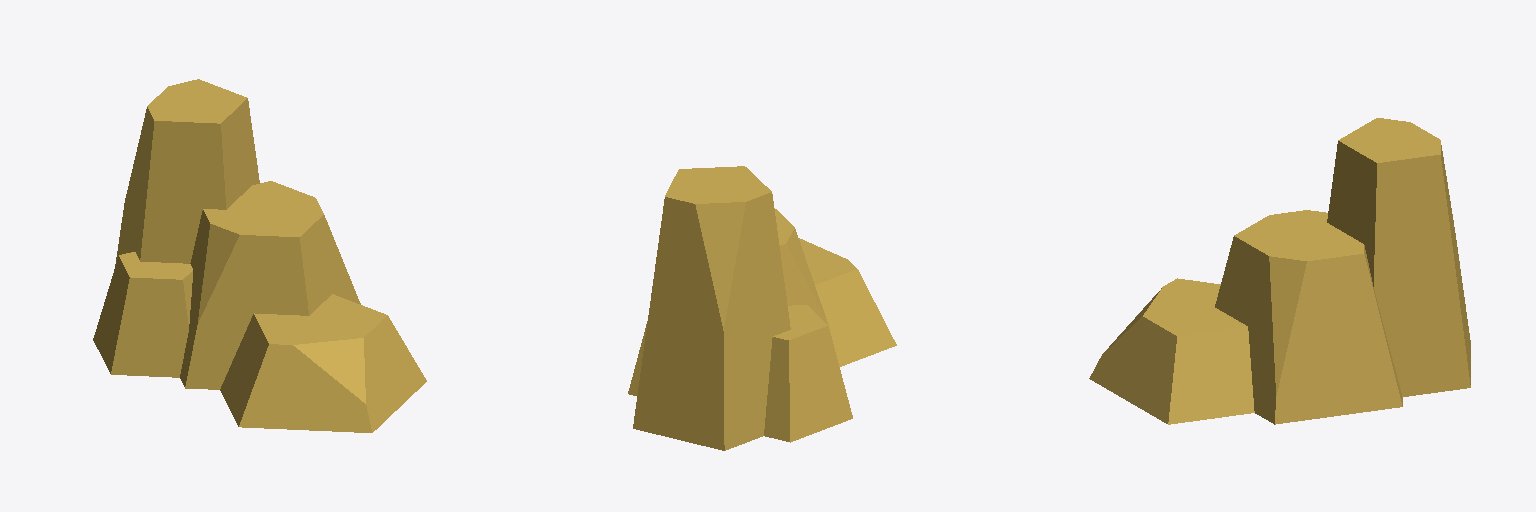
File: rockC10.obj
3 renders of one model, left to right at view 1: azimuth 30°, elevation 25°; view 2: azimuth 150°, elevation 25°; view 3: azimuth 270°, elevation 25°, orthographic.
Parts seen in each view (by area): view 1: rockC2.001; view 2: rockC2.001; view 3: rockC2.001.
Part boxes in pixels (x1,y1,x2,y2): rockC2.001: (93,79,426,432); rockC2.001: (628,166,896,450); rockC2.001: (1089,118,1470,424).
Size of the model in its own units: 2.19 by 2.04 by 3.13.